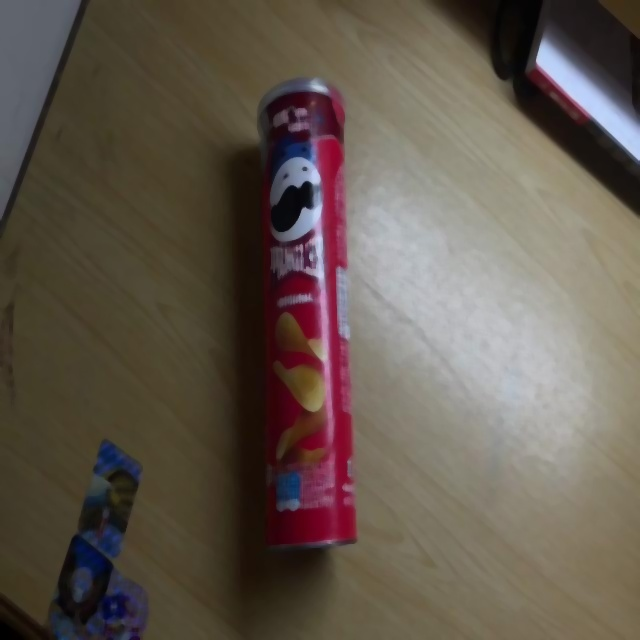Pringles: (255, 76, 360, 548)
